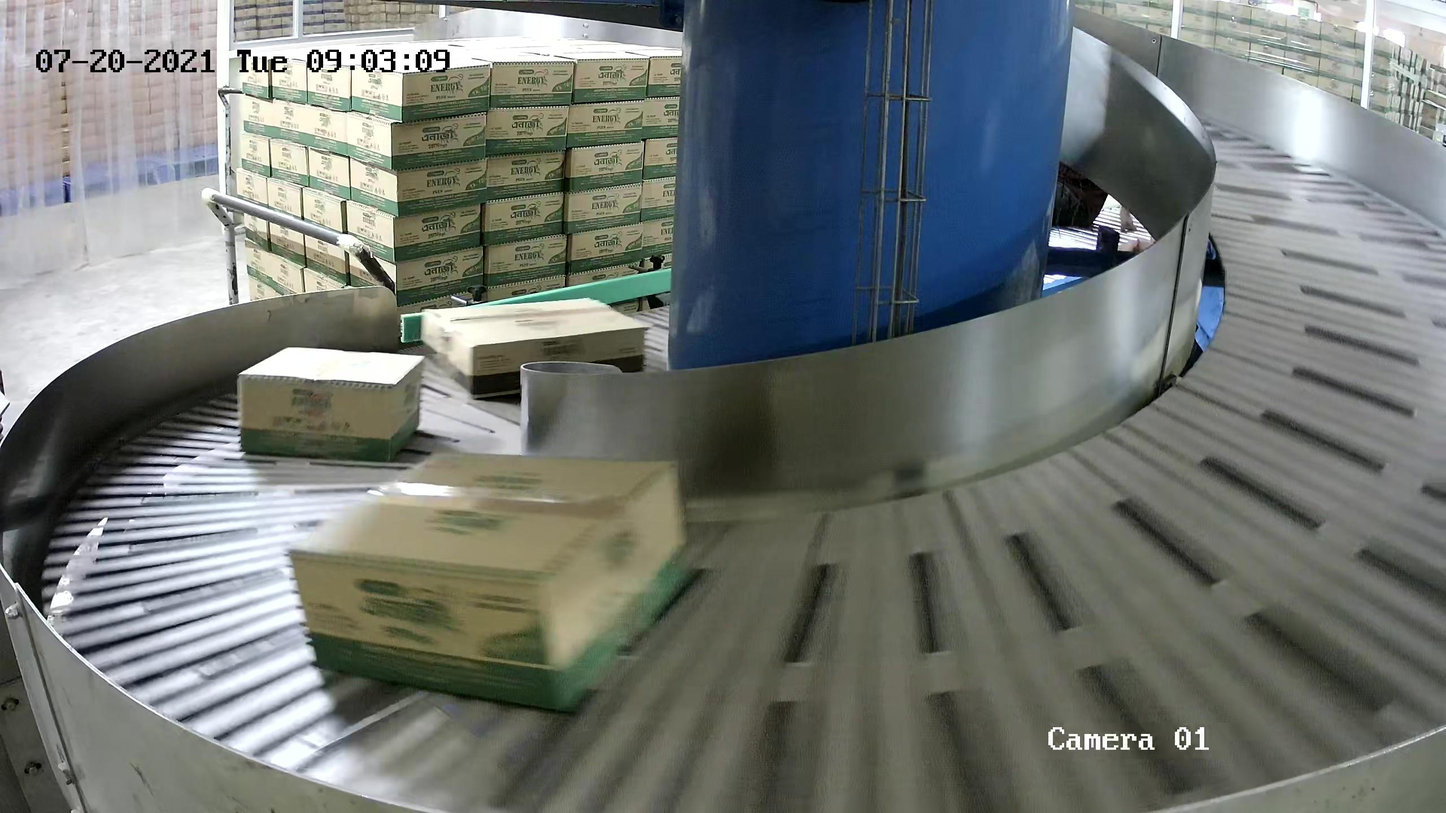Box: (286, 449, 692, 712), (419, 296, 651, 399), (238, 345, 425, 462)
